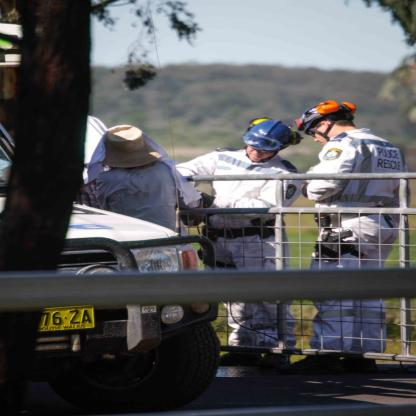Helmet: (238, 117, 305, 166), (296, 100, 362, 143)
